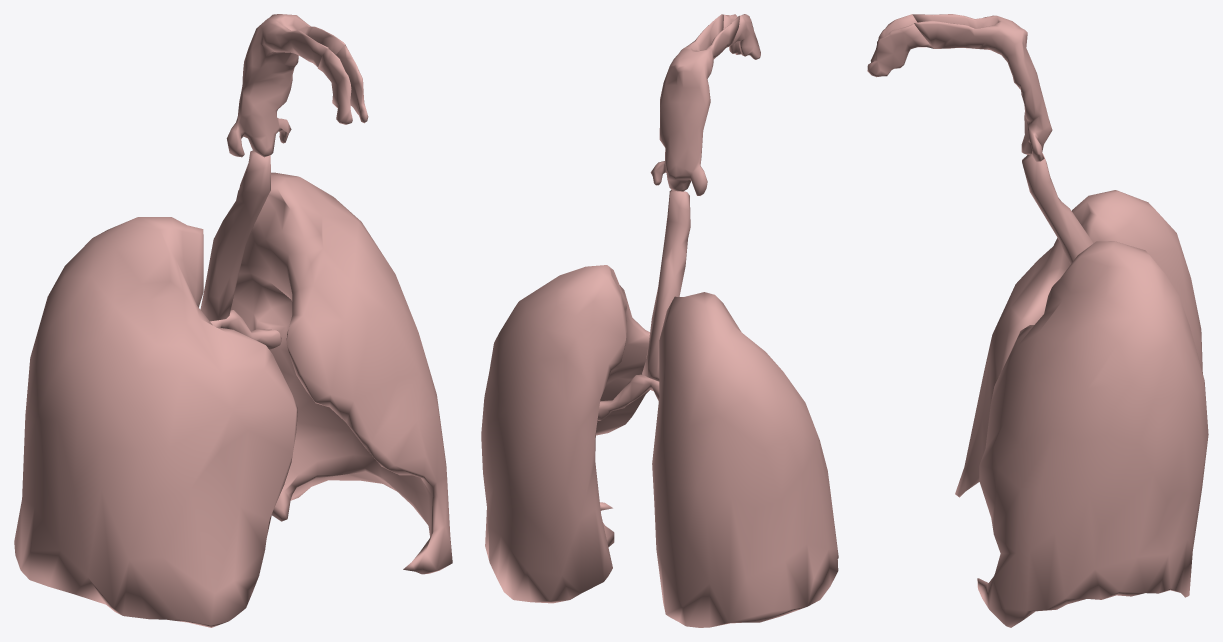
Rendered from icrp_adult_female.respiratory.LOD2.glb.
3 renders of one model, left to right at view 1: azimuth 30°, elevation 25°; view 2: azimuth 150°, elevation 25°; view 3: azimuth 270°, elevation 25°, orthographic. The views are drawn at different scales.
Parts seen in each view (by area): view 1: ICRP.ADULT.FEMALE.RESPIRATORY.LUNG.R, ICRP.ADULT.FEMALE.RESPIRATORY.LUNG.L, ICRP.ADULT.FEMALE.RESPIRATORY.EXTRATHORACIC_AIRWAY_ET2_POSTE, ICRP.ADULT.FEMALE.RESPIRATORY.TRACHEA, ICRP.ADULT.FEMALE.RESPIRATORY.EXTRATHORACIC_AIRWAY_ET1_ANTER, ICRP.ADULT.FEMALE.RESPIRATORY.BRONCHI_BB_REGION; view 2: ICRP.ADULT.FEMALE.RESPIRATORY.LUNG.R, ICRP.ADULT.FEMALE.RESPIRATORY.LUNG.L, ICRP.ADULT.FEMALE.RESPIRATORY.EXTRATHORACIC_AIRWAY_ET2_POSTE, ICRP.ADULT.FEMALE.RESPIRATORY.TRACHEA, ICRP.ADULT.FEMALE.RESPIRATORY.BRONCHI_BB_REGION, ICRP.ADULT.FEMALE.RESPIRATORY.EXTRATHORACIC_AIRWAY_ET1_ANTER; view 3: ICRP.ADULT.FEMALE.RESPIRATORY.LUNG.L, ICRP.ADULT.FEMALE.RESPIRATORY.LUNG.R, ICRP.ADULT.FEMALE.RESPIRATORY.EXTRATHORACIC_AIRWAY_ET2_POSTE, ICRP.ADULT.FEMALE.RESPIRATORY.TRACHEA, ICRP.ADULT.FEMALE.RESPIRATORY.EXTRATHORACIC_AIRWAY_ET1_ANTER.
Part boxes in pixels (x1,y1,x2,y2): ICRP.ADULT.FEMALE.RESPIRATORY.LUNG.R: (14,217,297,627); ICRP.ADULT.FEMALE.RESPIRATORY.LUNG.L: (231,172,452,574); ICRP.ADULT.FEMALE.RESPIRATORY.EXTRATHORACIC_AIRWAY_ET2_POSTE: (226,14,345,157); ICRP.ADULT.FEMALE.RESPIRATORY.TRACHEA: (200,150,270,321); ICRP.ADULT.FEMALE.RESPIRATORY.EXTRATHORACIC_AIRWAY_ET1_ANTER: (318,45,368,124); ICRP.ADULT.FEMALE.RESPIRATORY.BRONCHI_BB_REGION: (210,310,281,349); ICRP.ADULT.FEMALE.RESPIRATORY.LUNG.R: (652,292,838,627); ICRP.ADULT.FEMALE.RESPIRATORY.LUNG.L: (481,265,649,603); ICRP.ADULT.FEMALE.RESPIRATORY.EXTRATHORACIC_AIRWAY_ET2_POSTE: (650,14,739,195); ICRP.ADULT.FEMALE.RESPIRATORY.TRACHEA: (642,190,690,381); ICRP.ADULT.FEMALE.RESPIRATORY.BRONCHI_BB_REGION: (597,374,659,420); ICRP.ADULT.FEMALE.RESPIRATORY.EXTRATHORACIC_AIRWAY_ET1_ANTER: (723,14,760,59); ICRP.ADULT.FEMALE.RESPIRATORY.LUNG.L: (977,241,1208,627); ICRP.ADULT.FEMALE.RESPIRATORY.LUNG.R: (955,190,1202,497); ICRP.ADULT.FEMALE.RESPIRATORY.EXTRATHORACIC_AIRWAY_ET2_POSTE: (912,14,1052,161); ICRP.ADULT.FEMALE.RESPIRATORY.TRACHEA: (1022,153,1093,264); ICRP.ADULT.FEMALE.RESPIRATORY.EXTRATHORACIC_AIRWAY_ET1_ANTER: (867,14,933,77).
Size of the model in its own units: 0.2371 by 0.3499 by 0.2016.
